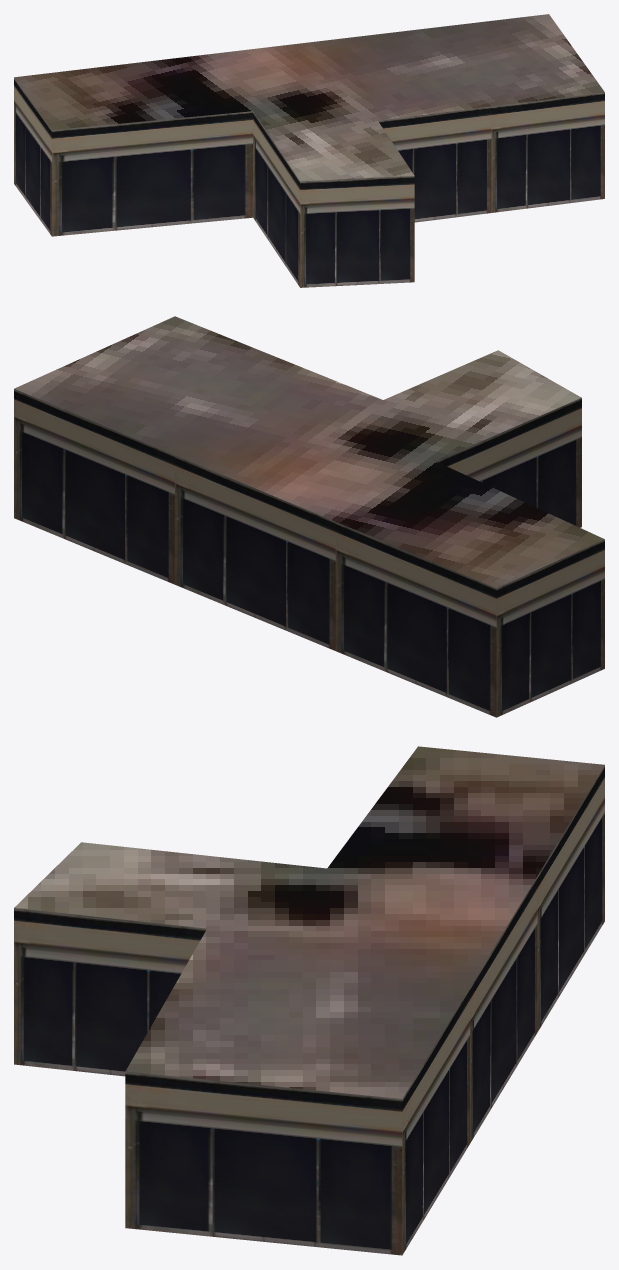
File: T_1T00F4NUH0.dae
The picture shows the model from 3 angles, top to bottom: view 1: azimuth 30°, elevation 25°; view 2: azimuth 150°, elevation 25°; view 3: azimuth 270°, elevation 25°; orthographic projection. The views are drawn at different scales.
Parts seen in each view (by area): view 1: SketchUp (×6); view 2: SketchUp (×4); view 3: SketchUp (×4).
Part boxes in pixels (box(x1,y1,x2,y2)): SketchUp (×6): box(14, 14, 604, 287); SketchUp (×4): box(14, 316, 604, 717); SketchUp (×4): box(14, 746, 604, 1255).
Size of the model in its own units: 15.41 by 10.91 by 3.19.
Materials: 2 (2 with a texture image).
